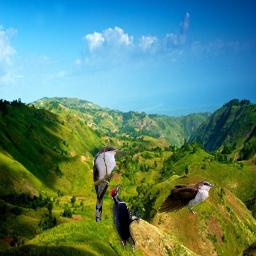Cuckoo: (157, 158, 216, 216), (92, 145, 122, 222)
Woodpecker: (110, 184, 142, 253)
